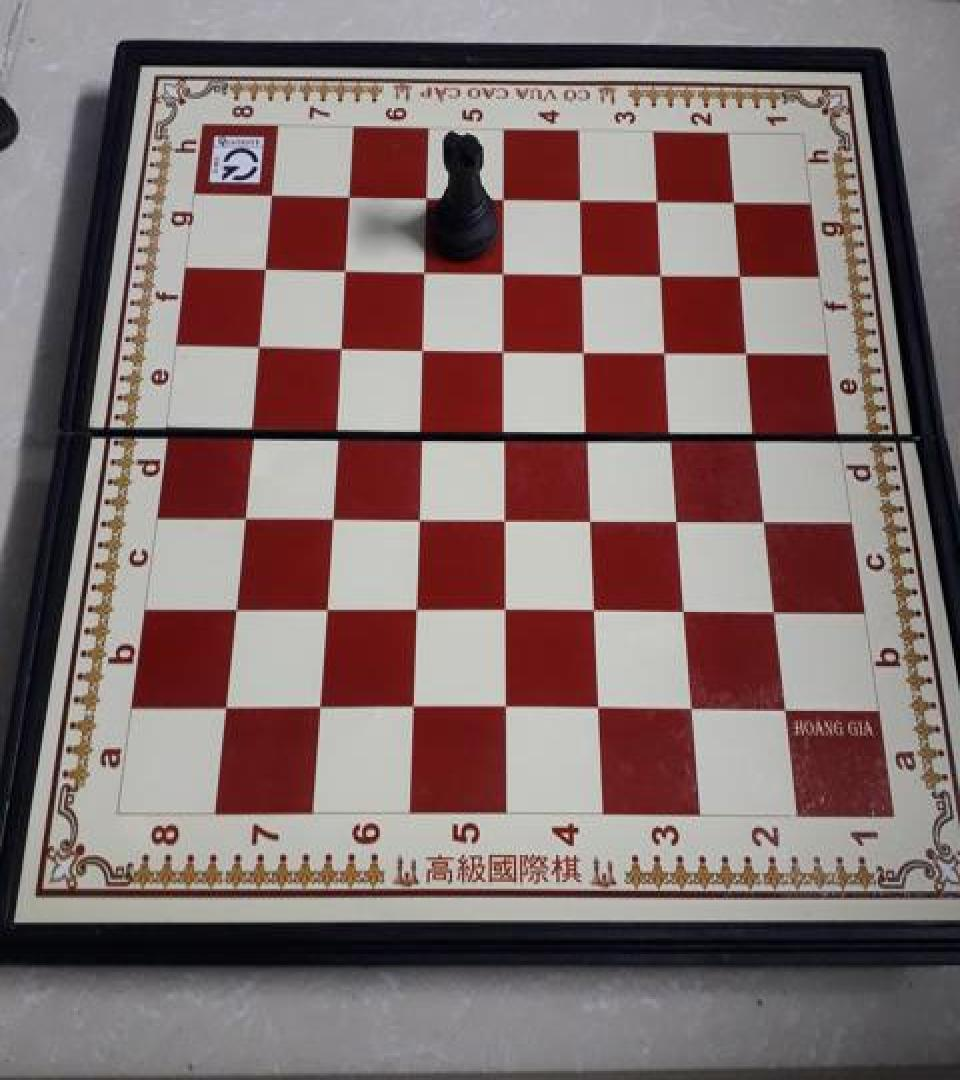xcorner: (580, 588, 612, 625), (670, 588, 702, 625), (210, 685, 242, 721), (304, 686, 336, 722), (397, 686, 429, 722), (490, 686, 522, 722), (583, 688, 615, 724), (676, 688, 708, 724), (768, 688, 800, 724), (220, 586, 252, 622), (310, 586, 342, 622), (400, 587, 432, 623), (490, 587, 522, 623), (759, 590, 791, 626), (229, 493, 261, 529), (316, 494, 348, 530), (403, 494, 435, 530), (490, 495, 522, 531), (577, 495, 609, 531), (664, 496, 696, 532), (750, 497, 782, 533), (237, 406, 269, 442), (322, 406, 354, 442), (406, 407, 438, 443), (490, 408, 522, 444), (574, 410, 606, 446), (658, 410, 690, 446), (742, 410, 774, 446), (245, 324, 277, 360), (327, 325, 359, 361), (409, 326, 441, 362), (490, 328, 522, 364), (572, 328, 604, 364), (734, 330, 766, 366), (252, 248, 284, 284), (332, 248, 364, 284), (411, 250, 443, 286), (490, 251, 522, 287), (569, 252, 601, 288), (648, 252, 680, 288), (727, 253, 759, 289), (259, 176, 291, 212), (337, 176, 369, 212), (414, 178, 446, 214), (490, 179, 522, 215), (567, 180, 599, 216), (643, 181, 675, 217), (720, 181, 752, 217), (653, 329, 685, 364)
